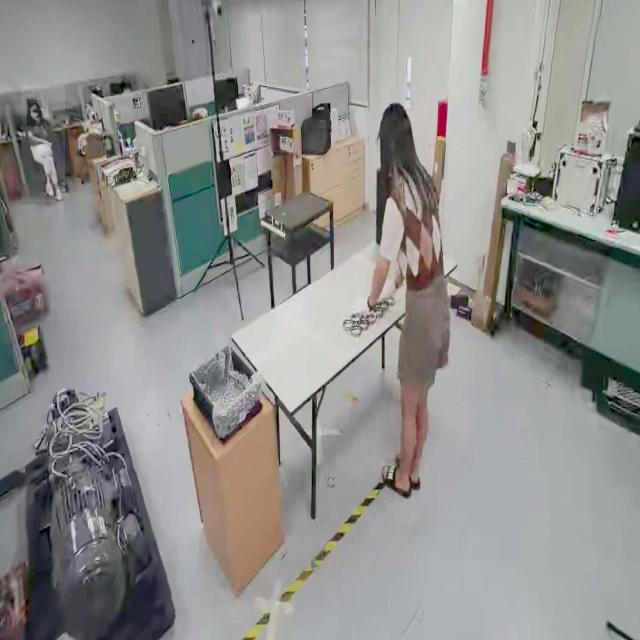face_mask: (26, 100, 42, 126)
head_nohelmet: (379, 101, 412, 136), (29, 95, 39, 104)
person: (354, 87, 468, 522), (21, 85, 65, 203)
